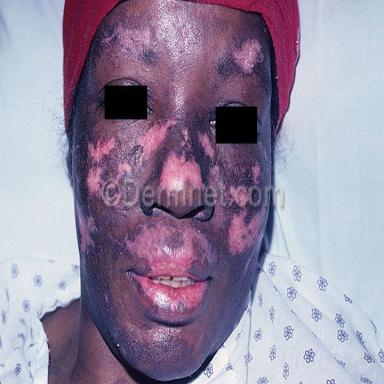Lupus-Erythematosus-Chronicus-Discoides: (122, 218, 221, 270), (228, 206, 265, 255), (138, 121, 177, 164), (87, 138, 115, 195), (160, 153, 202, 188), (232, 39, 264, 75), (115, 28, 151, 57), (76, 206, 95, 260), (199, 134, 215, 160), (117, 162, 132, 181), (251, 162, 261, 185), (181, 128, 188, 142)
